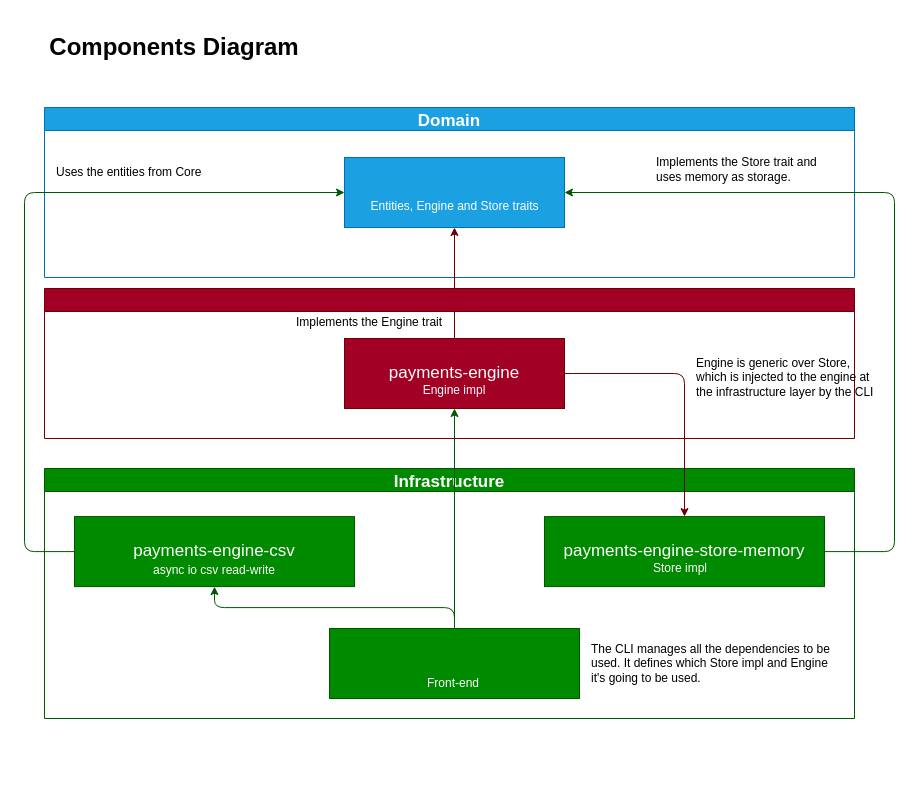
Some shapes in this 920 by 788 pixel diagram are drawn without their labels. Each missing label, with the box of its shape:
Application: (44, 288, 854, 438)
payments-engine-cli: (328, 628, 580, 698)
payments-engine-core: (344, 156, 564, 228)
